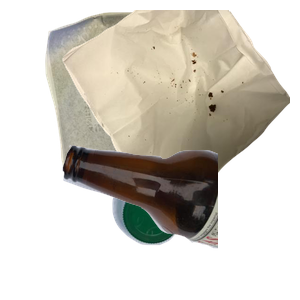glass: (60, 142, 300, 300)
paper: (43, 10, 221, 185)
plastic: (110, 164, 300, 300)
trash: (60, 10, 300, 190)
